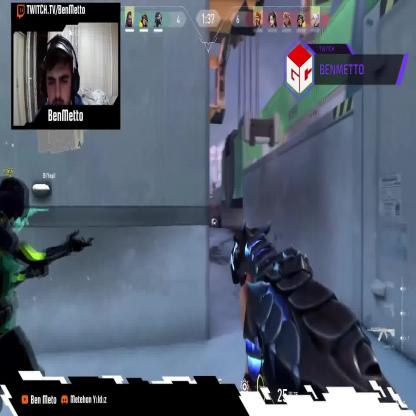enemy: (212, 178, 218, 194)
enemy_head: (213, 178, 215, 182)
